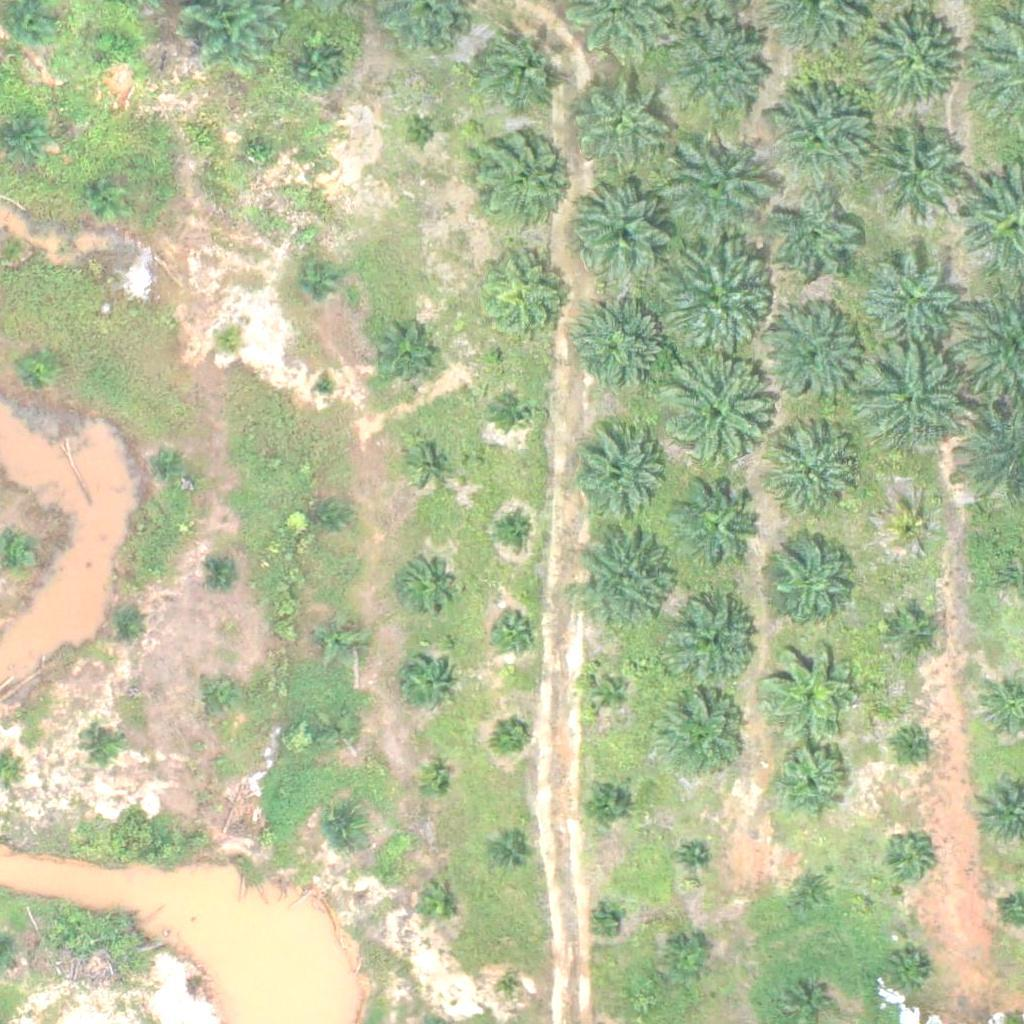Kelapa_Sawit: (652, 236, 777, 361), (652, 355, 777, 480), (859, 347, 972, 460), (764, 82, 877, 195), (661, 13, 774, 126), (658, 131, 771, 244), (863, 248, 963, 349), (767, 194, 867, 295), (762, 303, 862, 404), (565, 64, 665, 165), (576, 181, 676, 282), (573, 300, 673, 401), (570, 428, 670, 529), (468, 19, 568, 120), (470, 125, 570, 226), (475, 246, 575, 347), (760, 638, 860, 739), (578, 530, 678, 631), (860, 10, 960, 110), (869, 118, 969, 218), (773, 432, 861, 521), (767, 739, 855, 827), (658, 688, 746, 776), (670, 596, 758, 684), (677, 483, 765, 571), (767, 528, 854, 616), (370, 327, 433, 390), (397, 654, 459, 717), (289, 41, 339, 92), (400, 557, 450, 608), (413, 881, 463, 932), (316, 614, 366, 665), (888, 606, 938, 656), (882, 835, 932, 885), (885, 949, 935, 999), (789, 867, 839, 917), (662, 937, 712, 987), (581, 777, 631, 827), (889, 506, 939, 556), (584, 668, 634, 718), (489, 604, 539, 654), (306, 499, 344, 537), (98, 27, 136, 65), (89, 178, 127, 216), (241, 134, 279, 172), (403, 115, 441, 153), (209, 324, 247, 362), (500, 393, 538, 431), (416, 766, 454, 803), (494, 510, 531, 548), (412, 443, 449, 481), (206, 554, 244, 591), (82, 729, 119, 767), (323, 712, 361, 749), (496, 714, 533, 752), (293, 263, 330, 301), (492, 838, 529, 875), (324, 810, 361, 847), (104, 602, 141, 639), (201, 680, 238, 717), (21, 347, 58, 384), (152, 445, 189, 482), (593, 908, 618, 933), (498, 977, 523, 1002), (903, 734, 928, 759), (312, 373, 337, 398), (681, 844, 705, 869)
